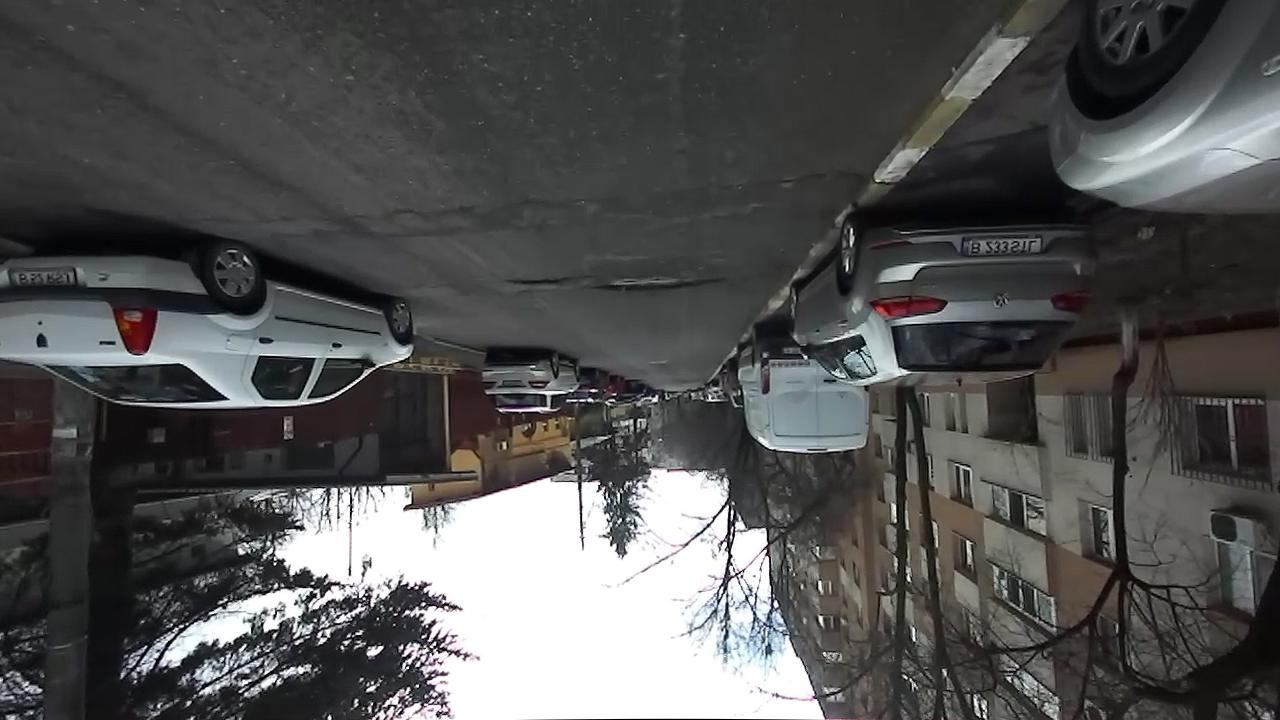pothole: (589, 272, 730, 296), (769, 162, 854, 187), (503, 275, 576, 291)
